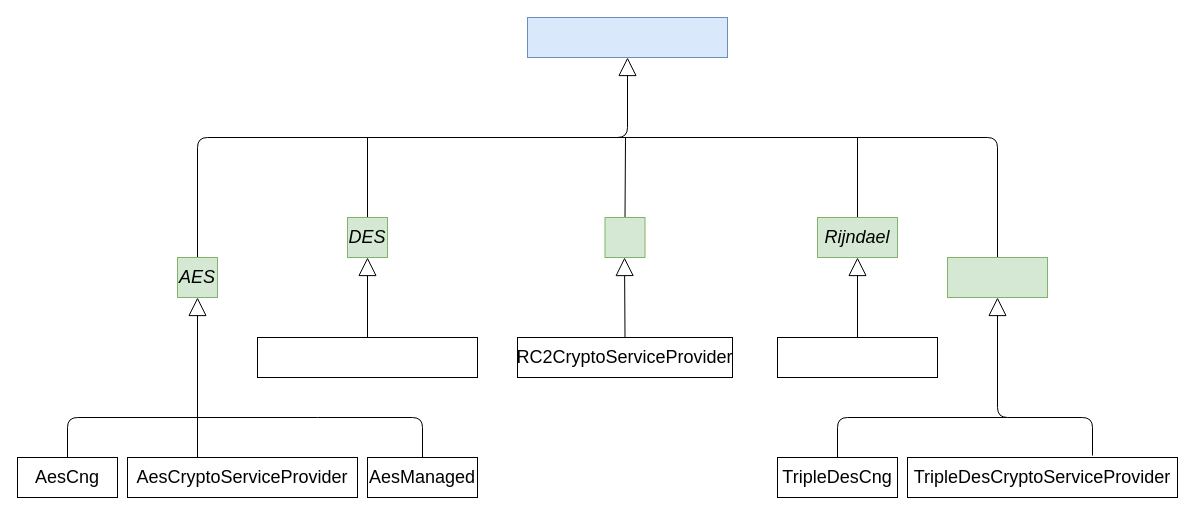
The diagram is 1195 pixels wide and 515 high, and some of its shapes have lost their labels. The shapes that lost their labels are listed below. From the top down, each one's box as (x1, y1, x2, y2) in pixels, then its label:
(526, 16, 728, 58): SymmetricAlgorithm
(604, 216, 645, 258): RC2
(946, 256, 1048, 298): TrippleDES
(256, 336, 478, 378): DESCryptoServiceProvider
(776, 336, 938, 378): RijndaelManaged
